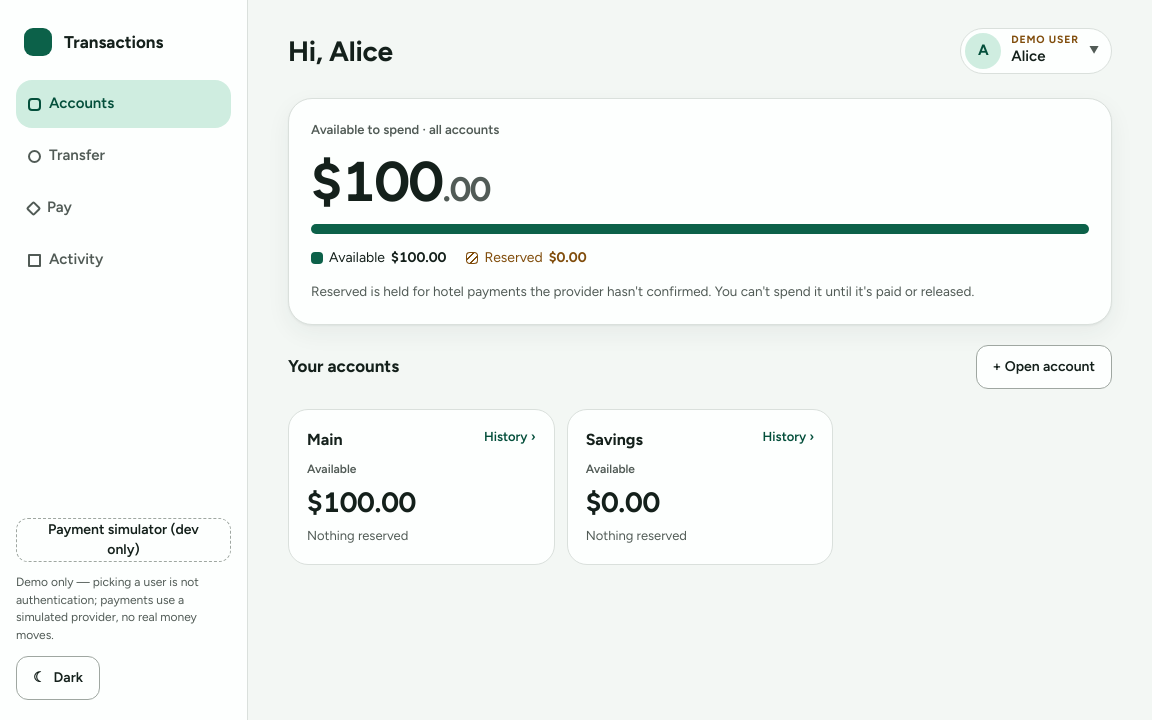
Test case: Calm wallet UI › transfer: review, then send integer cents, then show the server’s new balance
This screenshot has width=1152, height=720.
Expected: the heading "Hi, Alice" is shown, [288, 31, 393, 71]
Expected: the element named "Balance summary" is shown, [288, 98, 1112, 325]
Click the button "Transfer".
click(124, 156)  # box [16, 132, 231, 180]
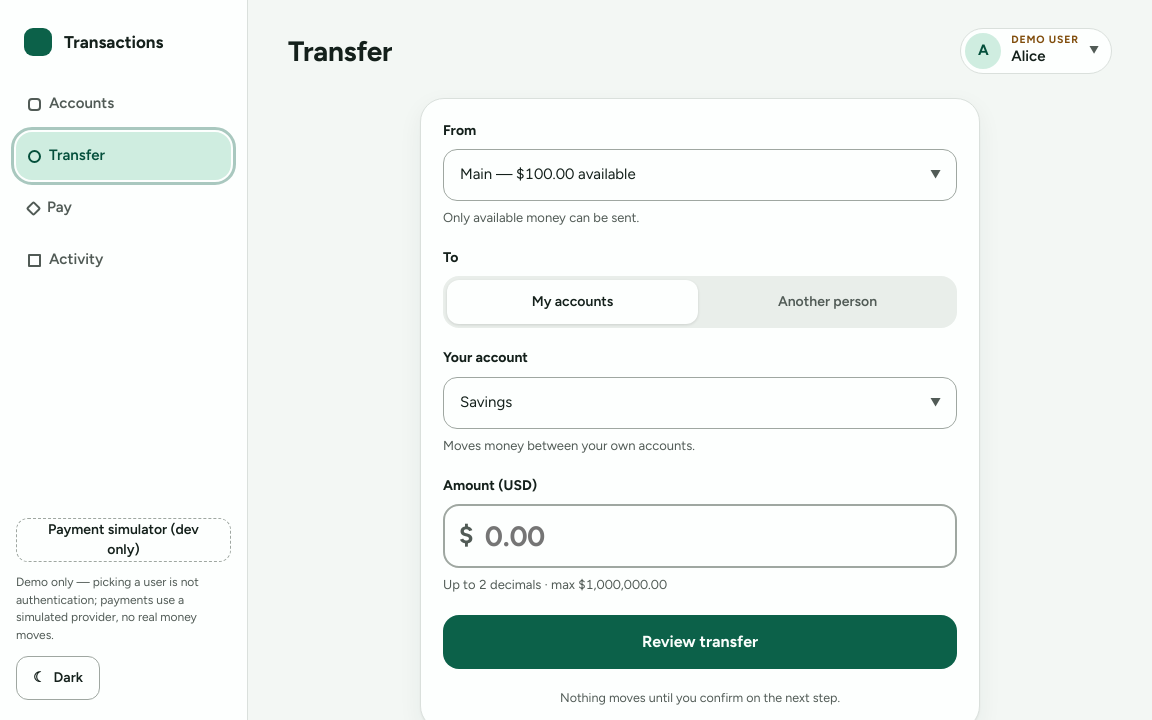
Click the radio button labelled "Another person".
click(828, 302)  # box [702, 280, 953, 324]
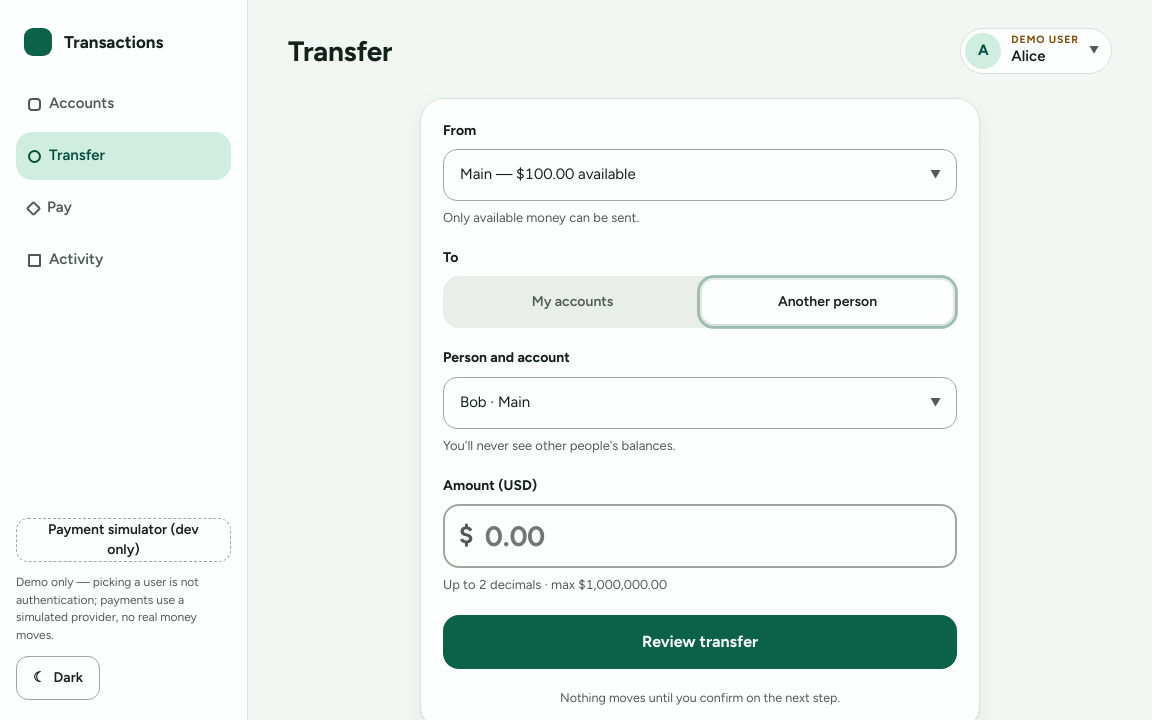
Type "0.29" into the field labelled "Amount (USD)".
click(700, 536); type("0.29")  # box [443, 504, 957, 568]
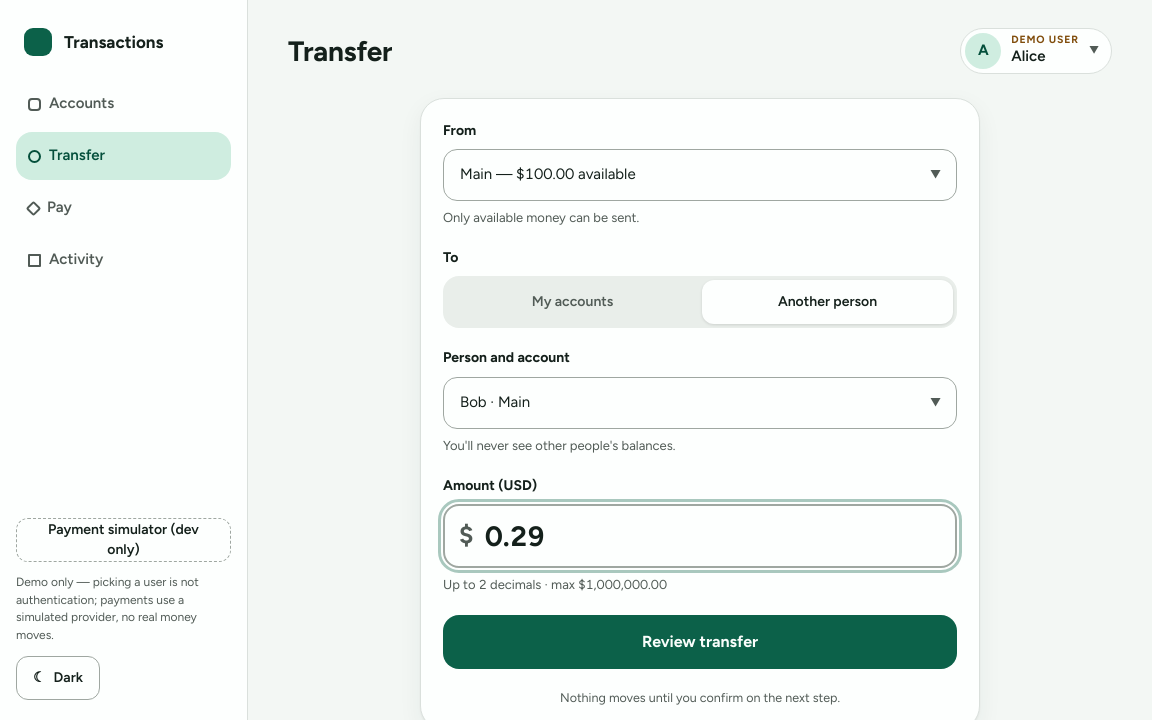
Click the button "Review transfer".
click(700, 642)  # box [443, 615, 957, 669]
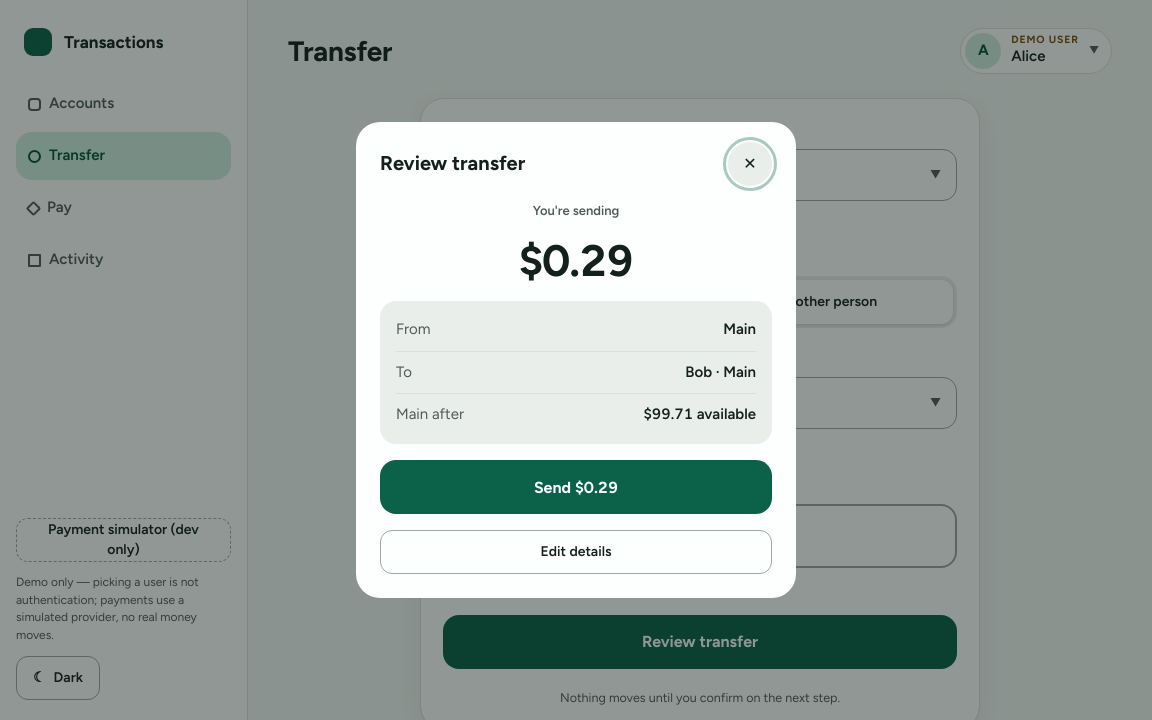
Result: the text "Bob · Main" is shown at [685, 362, 756, 384]
Click the button "Send $0.29".
click(576, 487)  # box [380, 460, 772, 514]
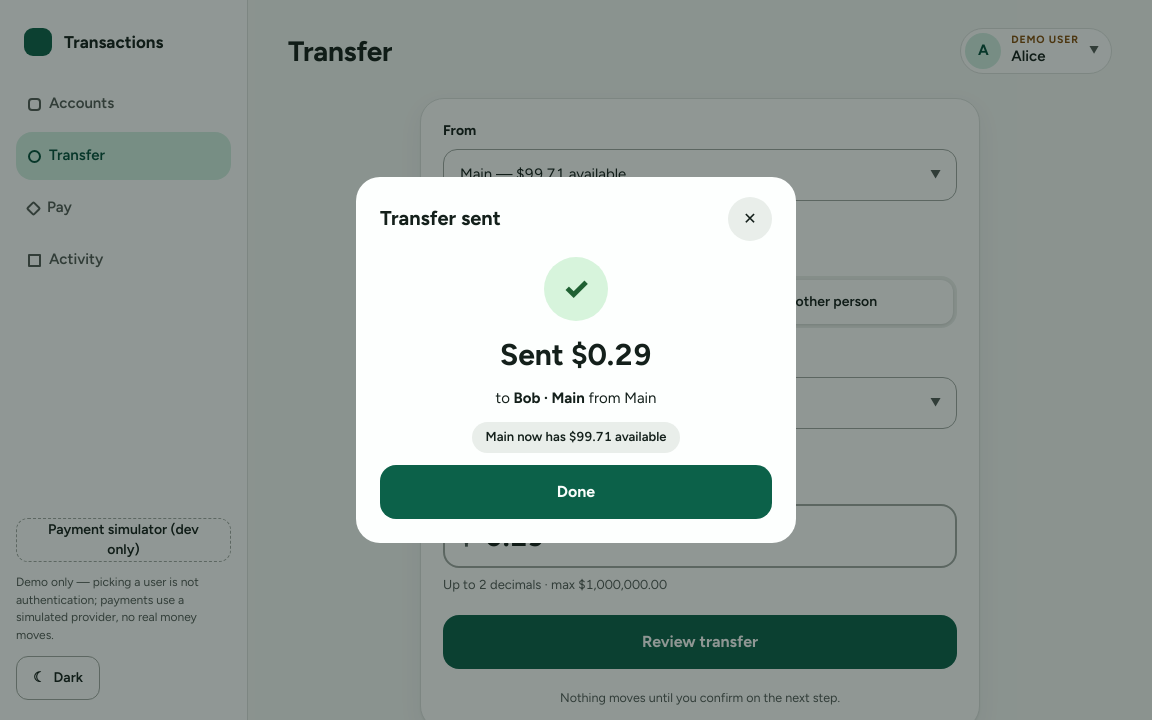
Result: the text "Sent $0.29" is shown at [500, 333, 652, 376]
Result: the text "Main now has $99.71 available" is shown at [472, 422, 680, 453]
